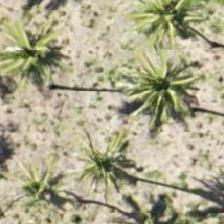coconut_tree: (111, 29, 201, 119), (74, 118, 164, 208), (1, 135, 91, 223), (0, 0, 67, 81), (127, 0, 217, 51)
